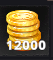gold: (2, 5, 48, 54)
